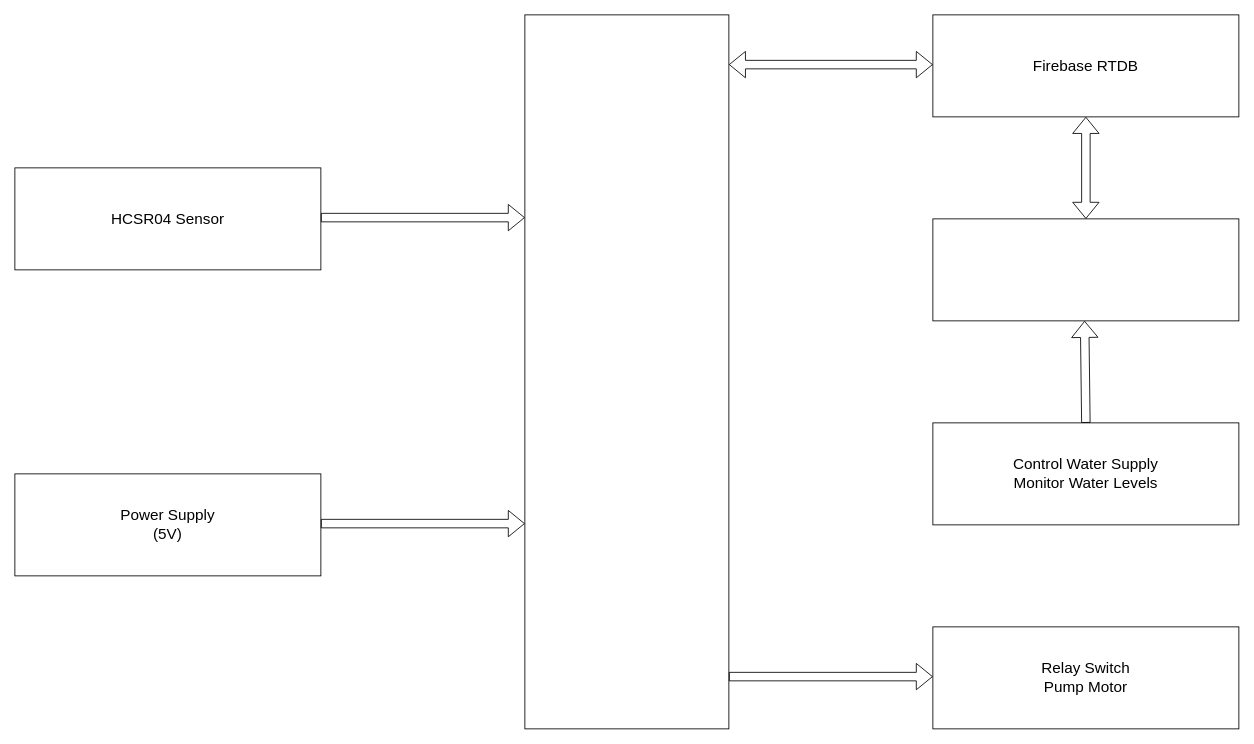
Image size: 1254x744. Some labels were removed from this diagram. The centre of each missing label's shape, as x and y in pixels:
"ESP32 Microcontroller" belongs at [626,371].
"Flutter Mobile Application" belongs at [1085,269].
